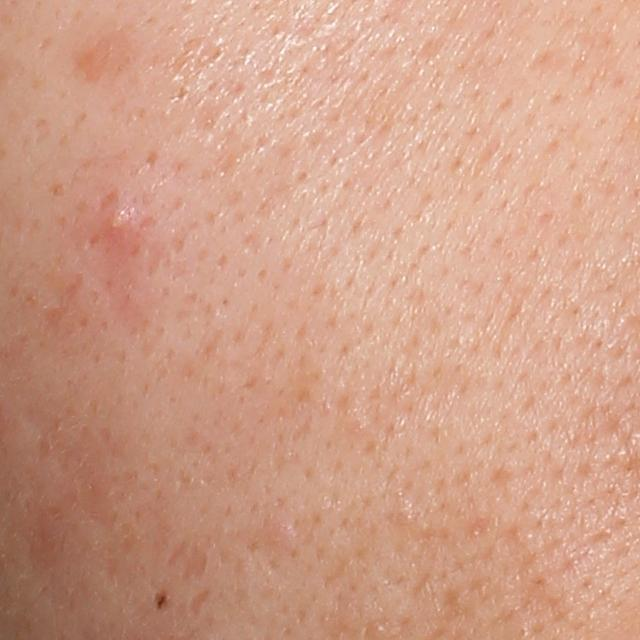atrophic_scar: (179, 545, 209, 583), (187, 586, 213, 619), (165, 541, 189, 569)
nevus: (152, 589, 172, 613)
